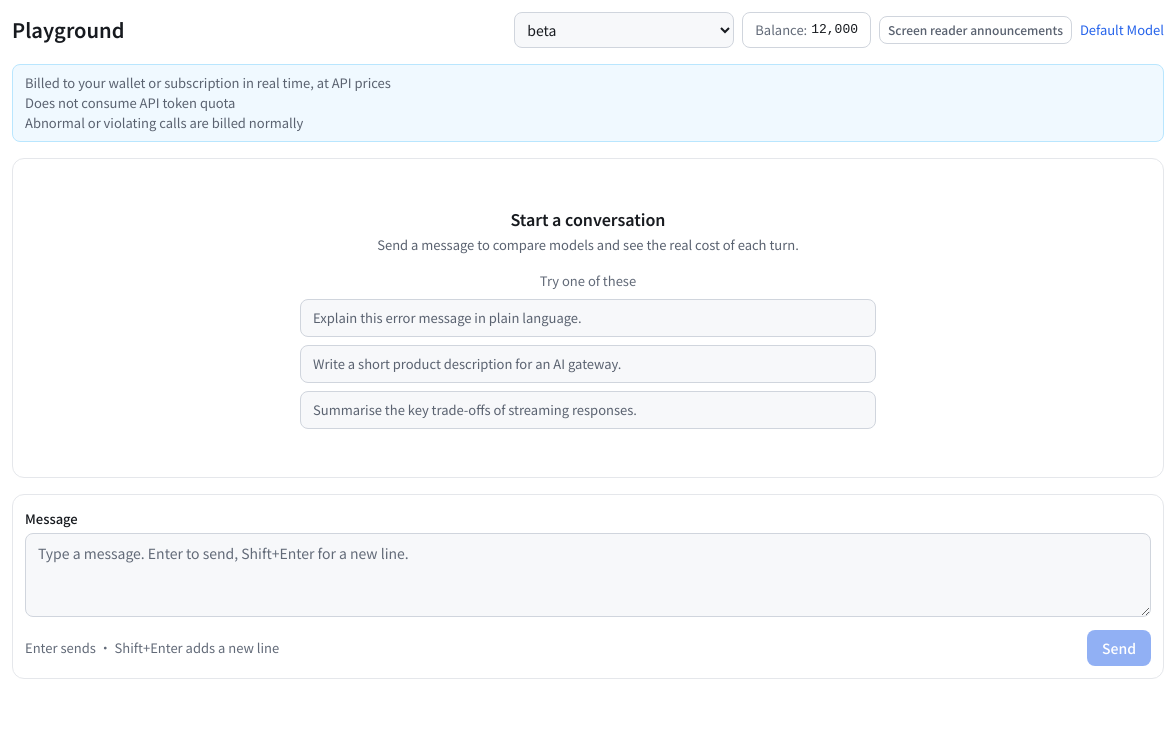
Test: PlaygroundPage › selects the default model, streams SSE and shows the usage summary
Expected: the dropdown named "Select a model" shows "beta", [514,12,734,48]
Expected: the element with test id "playground-welcome" is shown, [300,175,876,461]
Type "Say hello" into the text box labelled "Message" at {"x": 588, "y": 575}, box [25,533,1151,617]
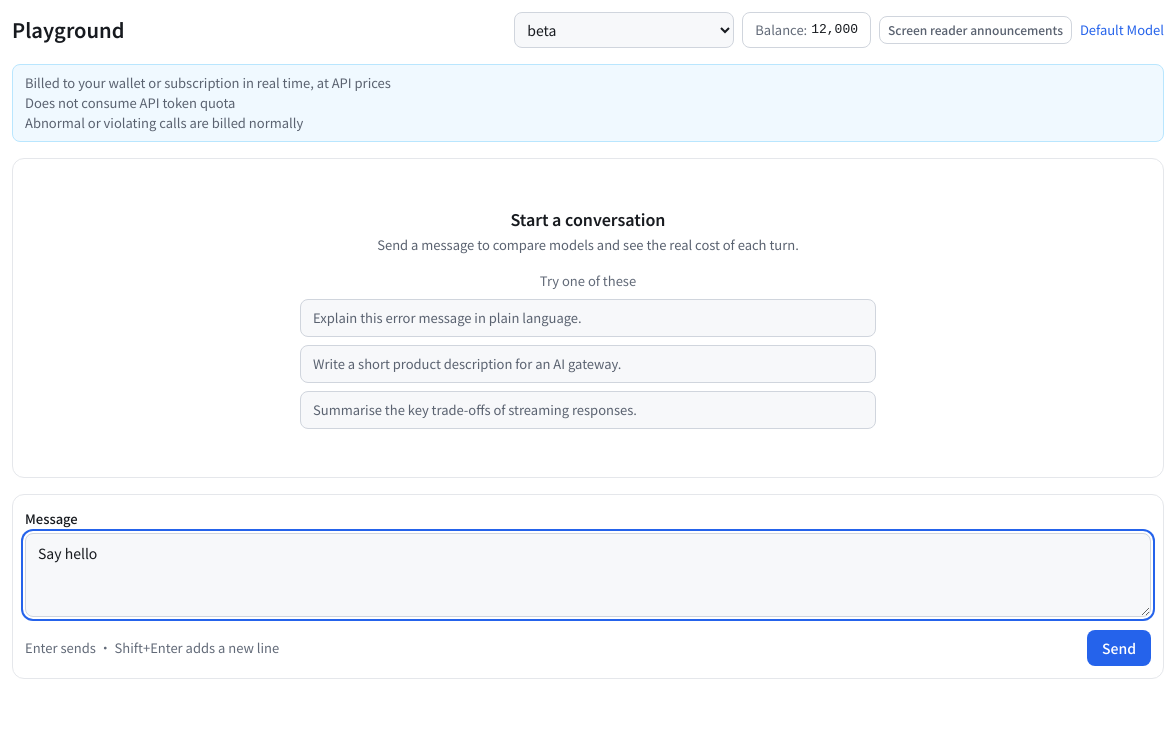
Click the button "Send" at {"x": 1119, "y": 648}, box [1087,630,1151,666]
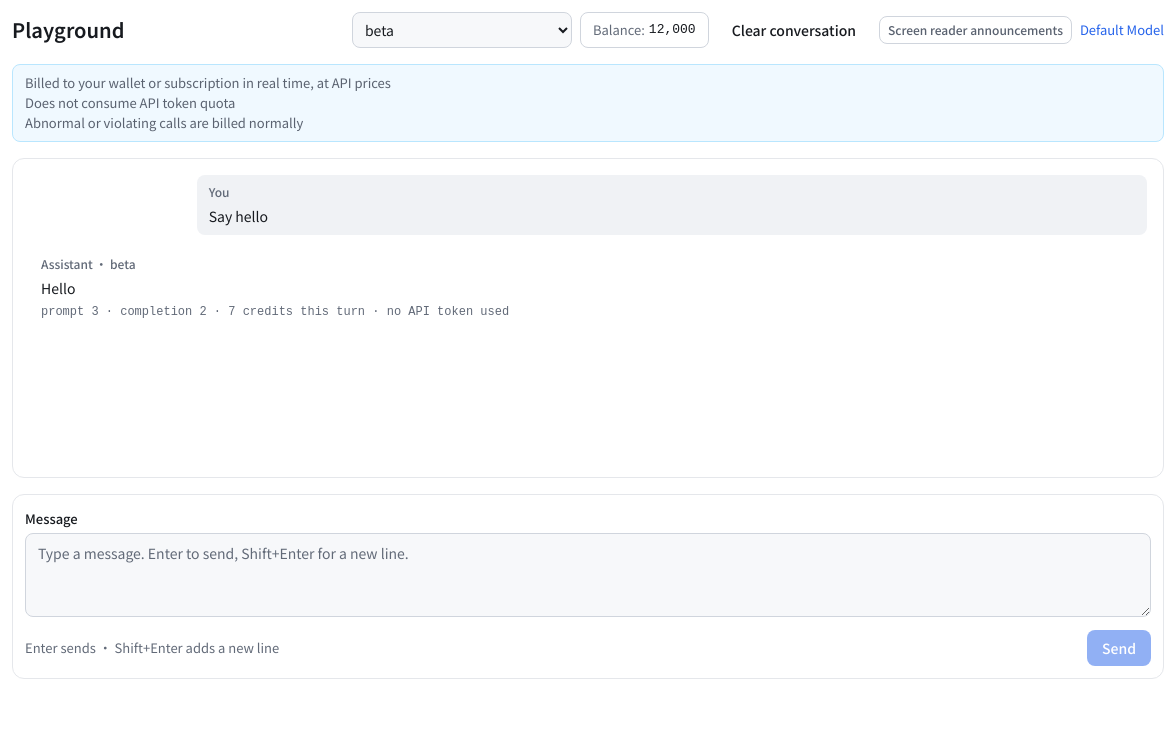
Expected: the text "Hello" is shown, [41,278,75,298]
Expected: the text "7 credits this turn" is shown, [228,305,365,319]
Expected: the text "prompt 3" is shown, [41,305,99,319]
